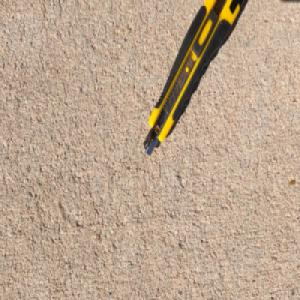Cutter: (142, 0, 246, 156)
